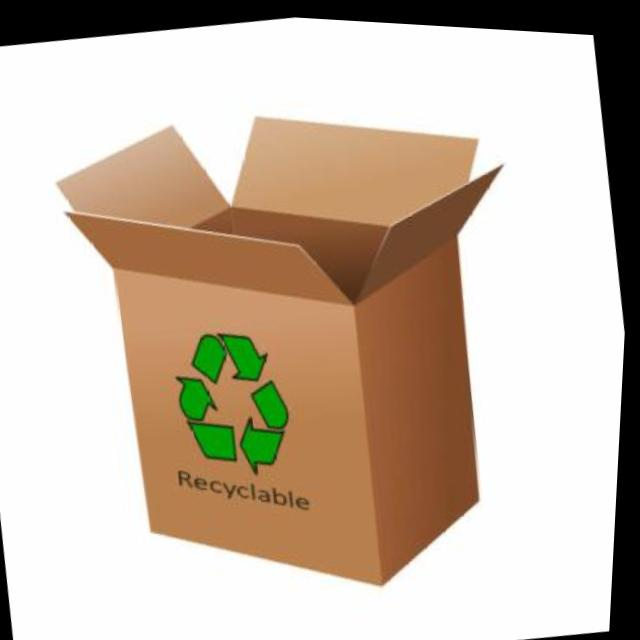box: (24, 56, 578, 640)
